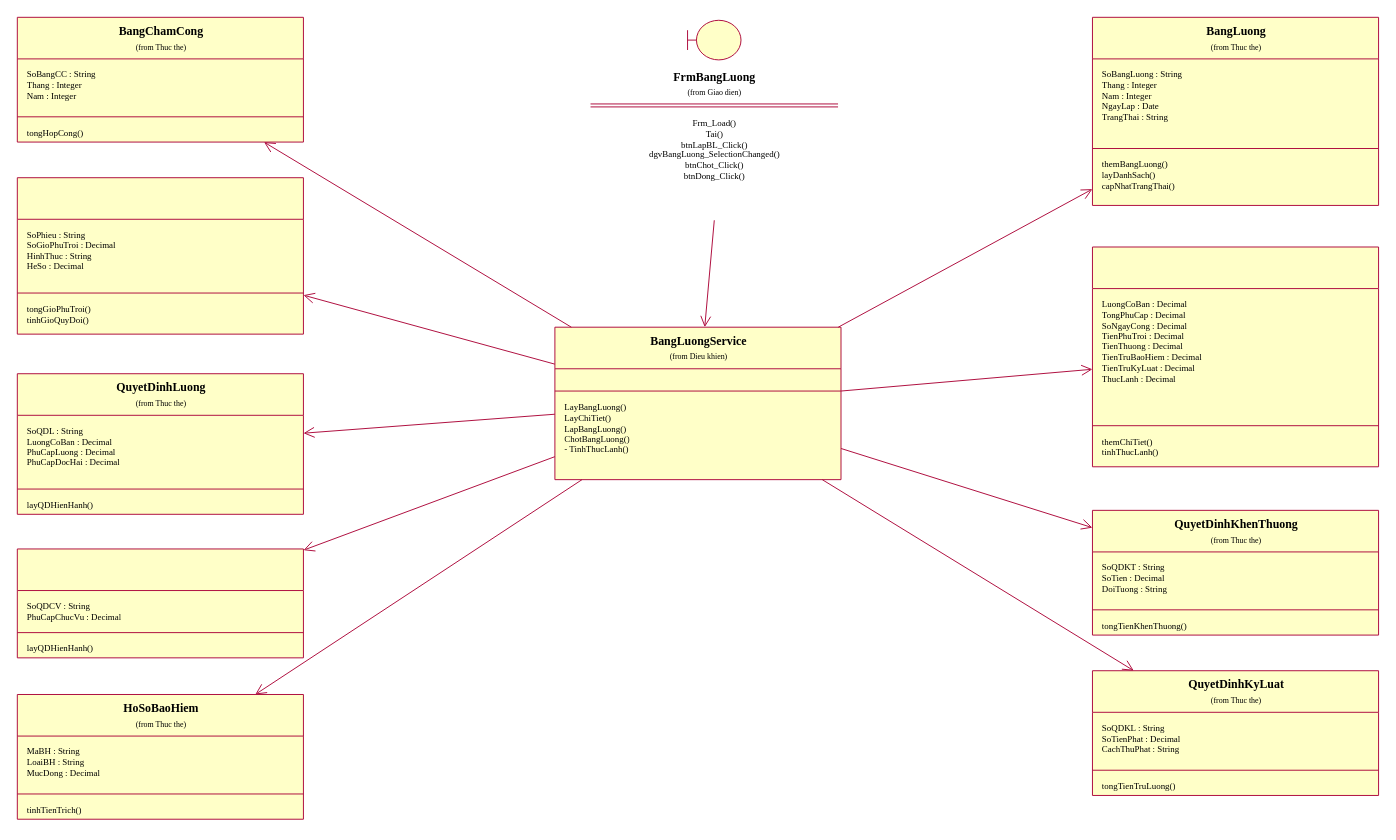
Some shapes in this 1396 by 840 pixel diagram are drawn without their labels. The box of each missing label's shape, as (x1, y1, x2, y2) in pixels:
ChiTietBangLuong (from Thuc the): (1091, 246, 1379, 467)
PhieuPhuTroi (from Thuc the): (16, 177, 303, 334)
QuyetDinhChucVu (from Thuc the): (16, 548, 303, 658)
